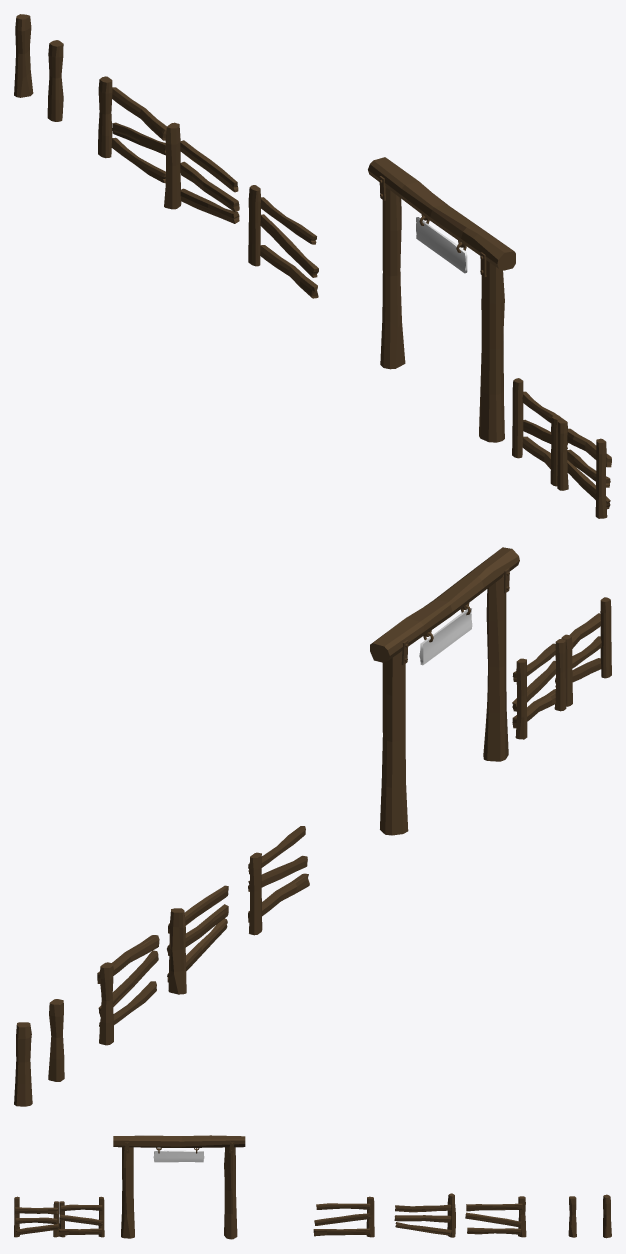
The model's file is Gate 1.fbx.
The picture shows the model from 3 angles, top to bottom: view 1: azimuth 30°, elevation 25°; view 2: azimuth 150°, elevation 25°; view 3: azimuth 270°, elevation 25°; orthographic projection. The views are drawn at different scales.
Parts seen in each view (by area): view 1: Gate, Fence 2, Fence 1, Fence 3, Door R, Door L, log 1, log 2; view 2: Gate, Fence 2, Fence 3, Door L, Fence 1, Door R, log 1, log 2; view 3: Gate, Fence 2, Fence 1, Fence 3, Door L, Door R, log 1, log 2.
Boxes of the visible parts, <box> form: Gate: <box>368,157,515,442</box>; Fence 2: <box>164,122,239,223</box>; Fence 1: <box>248,185,318,298</box>; Fence 3: <box>98,76,166,183</box>; Door R: <box>557,419,611,518</box>; Door L: <box>512,378,568,486</box>; log 1: <box>14,14,33,97</box>; log 2: <box>47,40,63,121</box>; Gate: <box>370,547,519,835</box>; Fence 2: <box>167,885,228,994</box>; Fence 3: <box>97,935,159,1045</box>; Door L: <box>512,638,566,739</box>; Fence 1: <box>248,826,309,935</box>; Door R: <box>555,597,611,706</box>; log 1: <box>14,1022,32,1106</box>; log 2: <box>48,999,64,1081</box>; Gate: <box>113,1135,245,1239</box>; Fence 2: <box>394,1193,455,1237</box>; Fence 1: <box>313,1196,374,1237</box>; Fence 3: <box>465,1196,526,1237</box>; Door L: <box>59,1196,104,1237</box>; Door R: <box>14,1196,59,1237</box>; log 1: <box>603,1194,611,1238</box>; log 2: <box>568,1196,576,1237</box>.
Size of the model in its own units: 88.37 by 642 by 3490.
